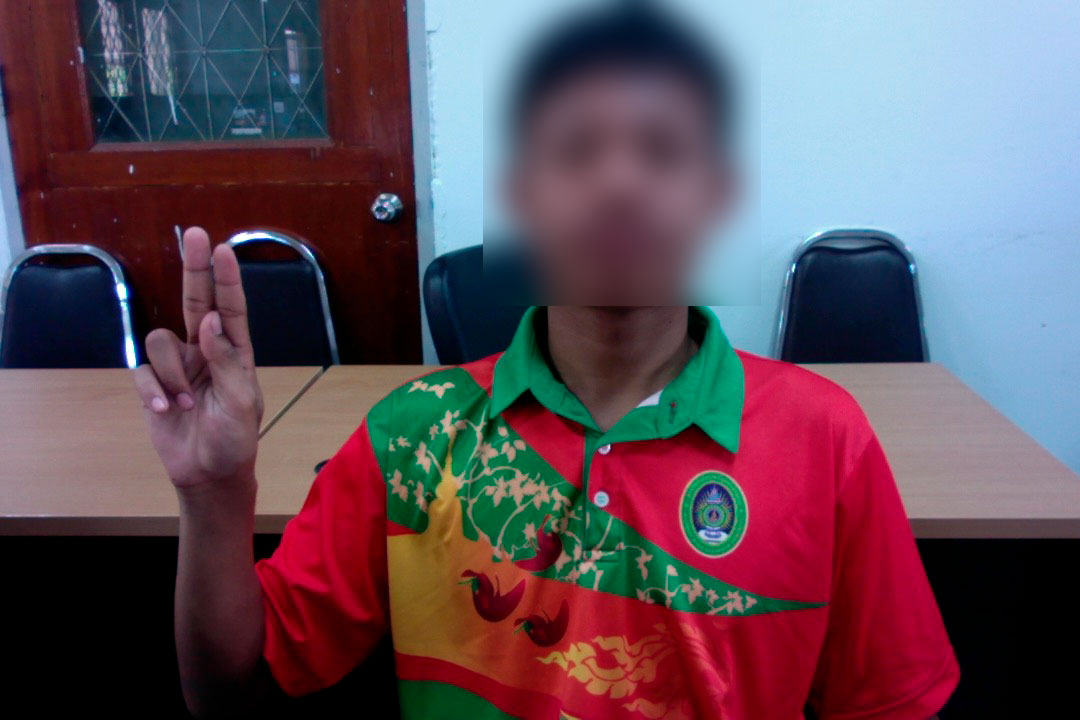ko: (130, 220, 267, 507)
